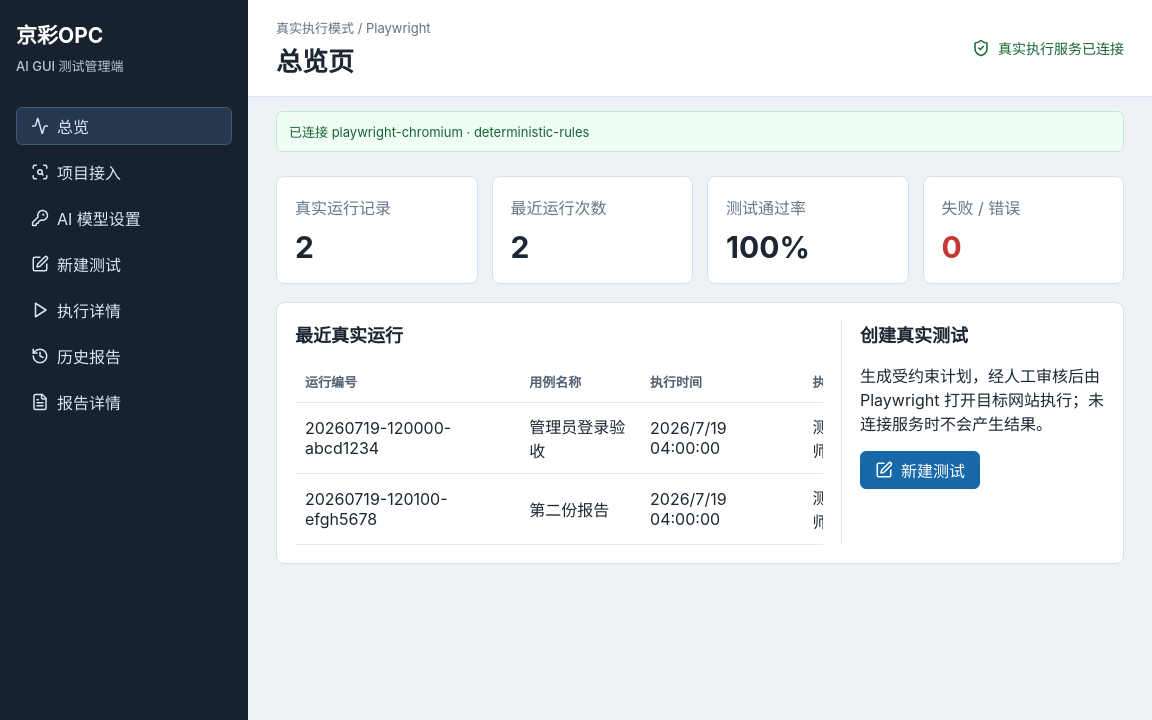
Scenario: App › selects all history reports and deletes their artifact records after confirmation
The image size is (1152, 720).
Expected: the text "真实执行服务已连接" is shown, [998, 38, 1124, 58]
Click the button "历史报告": (124,356) [16, 337, 232, 375]
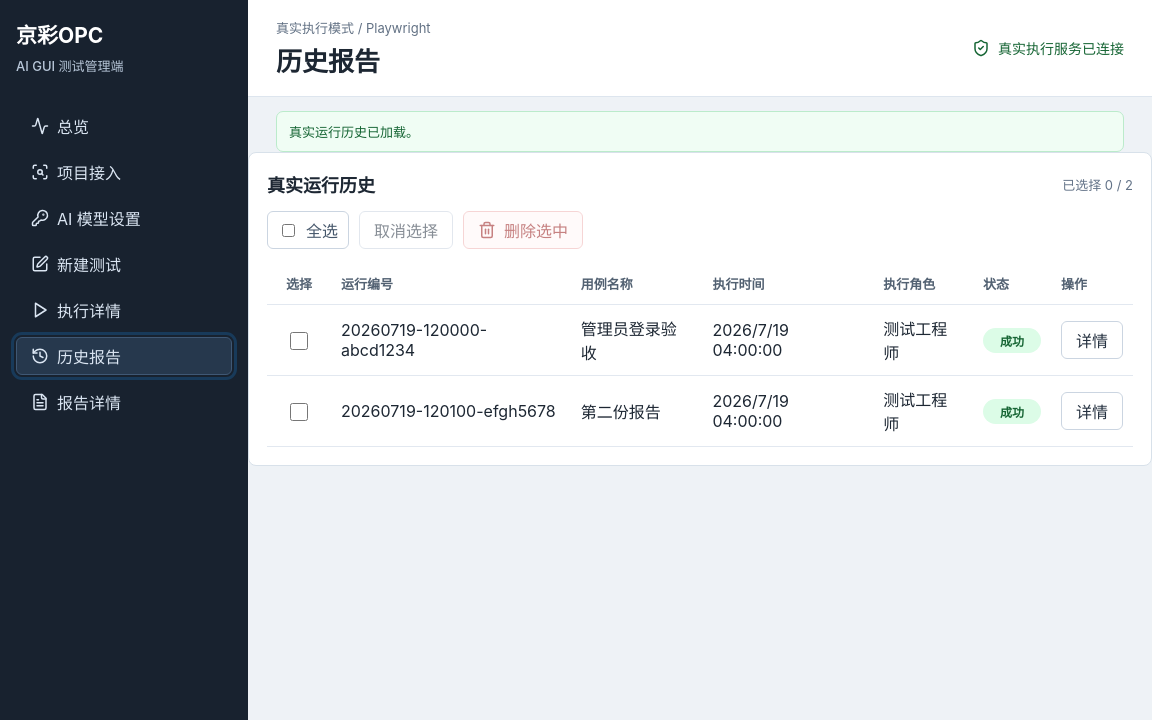
Now the text "已选择 0 / 2" is shown, box [1062, 174, 1133, 194]
Click the checkbox named "全选报告": (288,230) [282, 224, 295, 236]
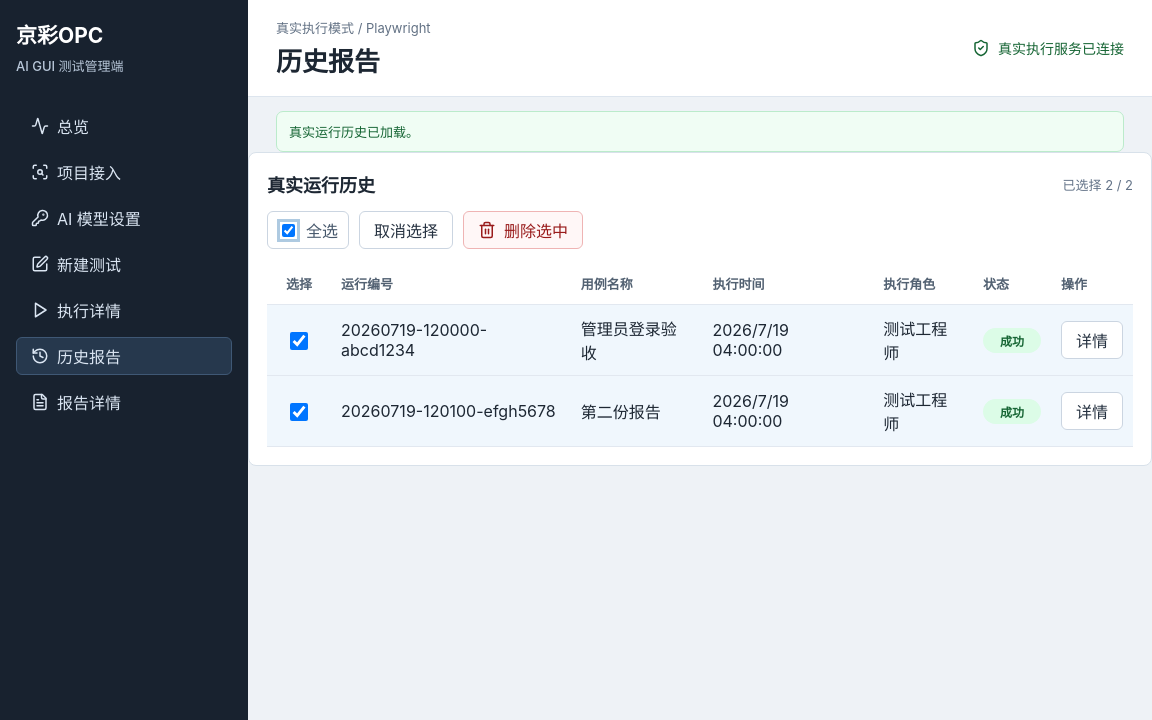
Now the text "已选择 2 / 2" is shown, box [1062, 174, 1133, 194]
Click the button "删除选中": (523,230) [463, 211, 583, 249]
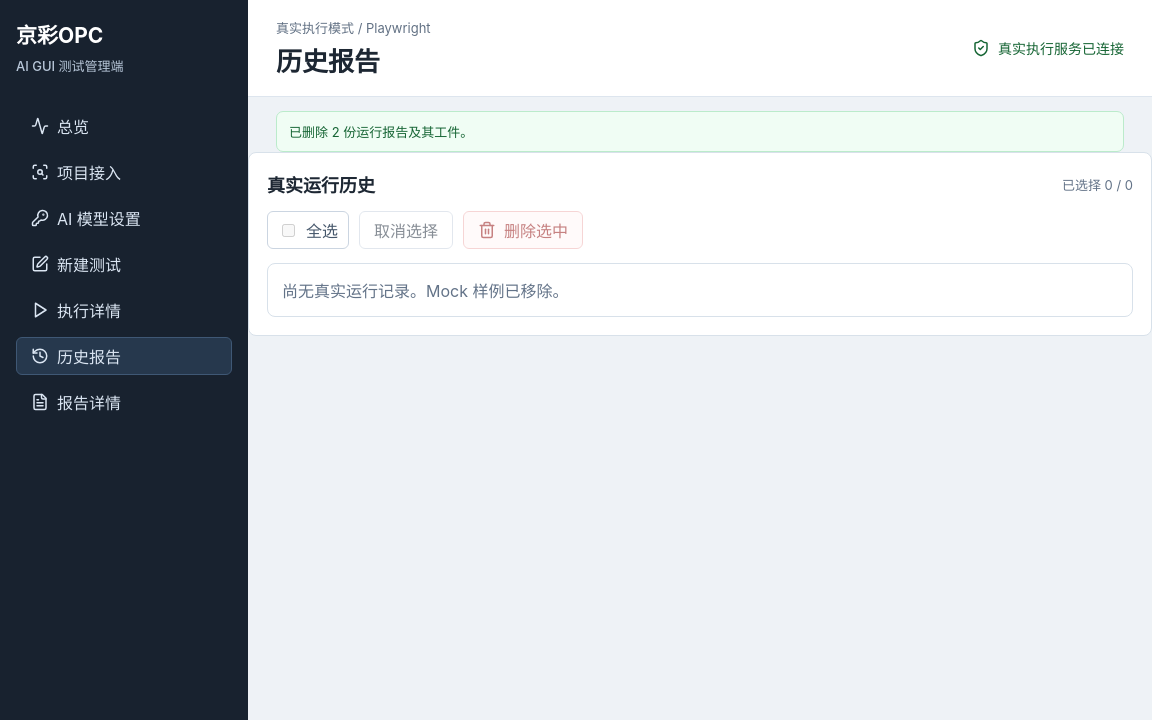
Now the text "已删除 2 份运行报告及其工件。" is shown, box [276, 111, 1124, 152]
Now the text "尚无真实运行记录。Mock 样例已移除。" is shown, box [267, 263, 1133, 317]
